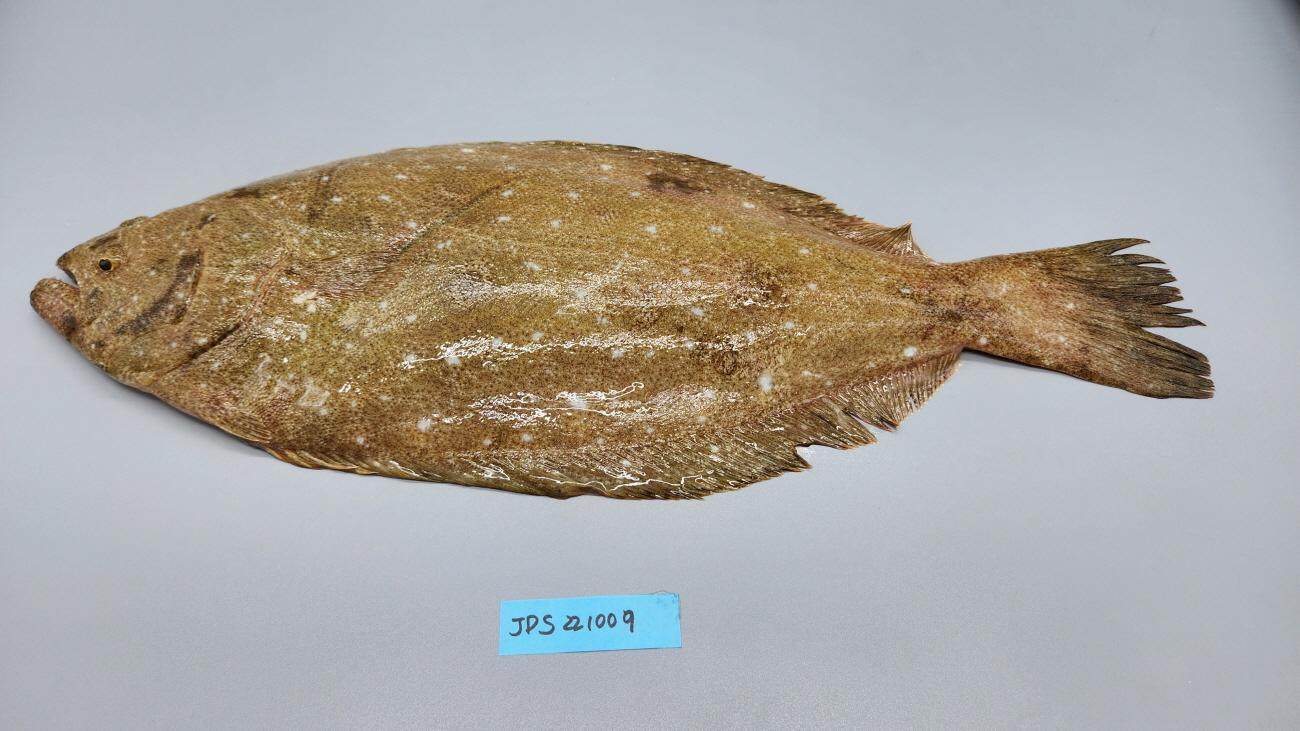POOUN: (27, 136, 1215, 501)
